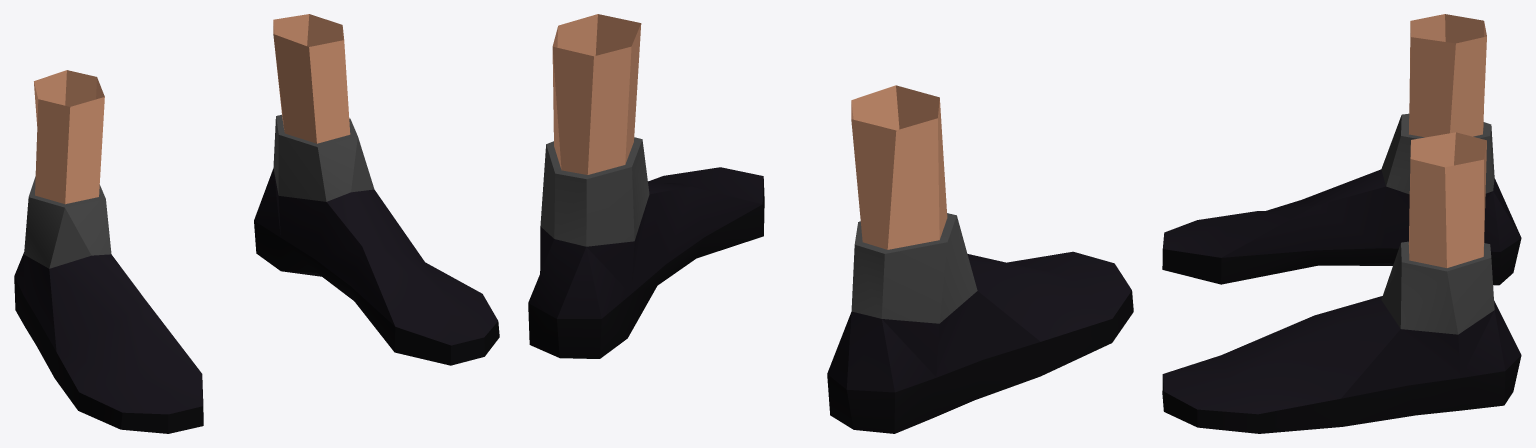
File: NM_ShoesM04.fbx
3 renders of one model, left to right at view 1: azimuth 30°, elevation 25°; view 2: azimuth 150°, elevation 25°; view 3: azimuth 270°, elevation 25°, orthographic. The views are drawn at different scales.
Parts seen in each view (by area): view 1: ShoesM04; view 2: ShoesM04; view 3: ShoesM04.
Boxes of the visible parts, <box> form: ShoesM04: <box>14,14,499,433</box>; ShoesM04: <box>528,14,1133,433</box>; ShoesM04: <box>1162,14,1521,433</box>.
Size of the model in its own units: 48 by 27.04 by 35.75.
